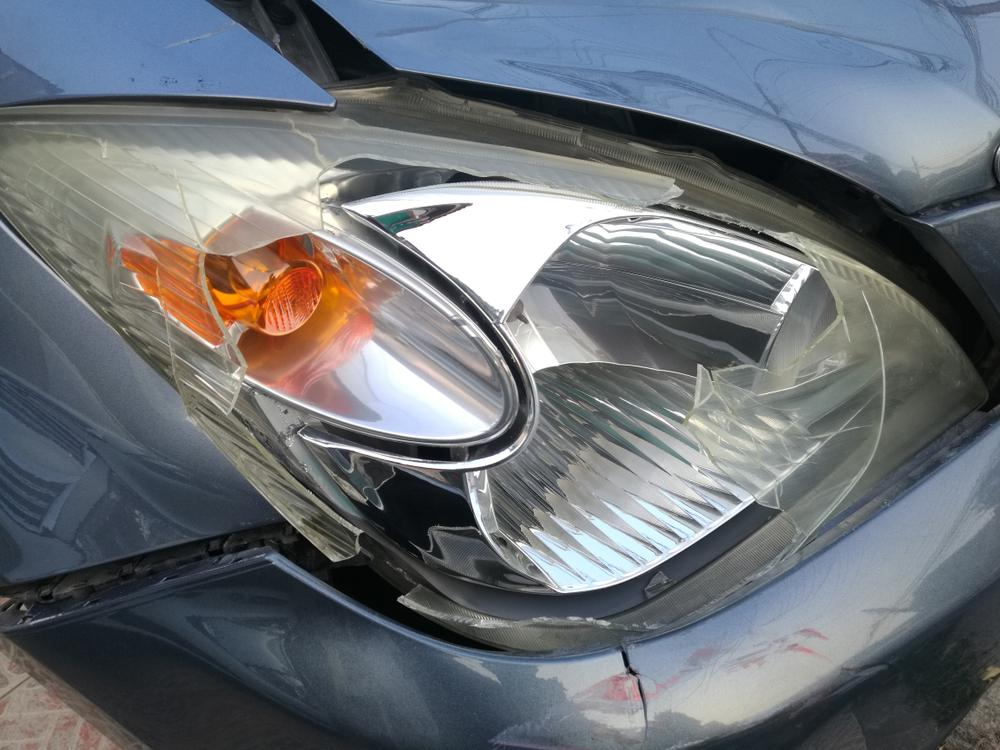crack: (618, 647, 651, 736)
lamp broken: (0, 102, 991, 653)
scratch: (479, 610, 896, 750)
